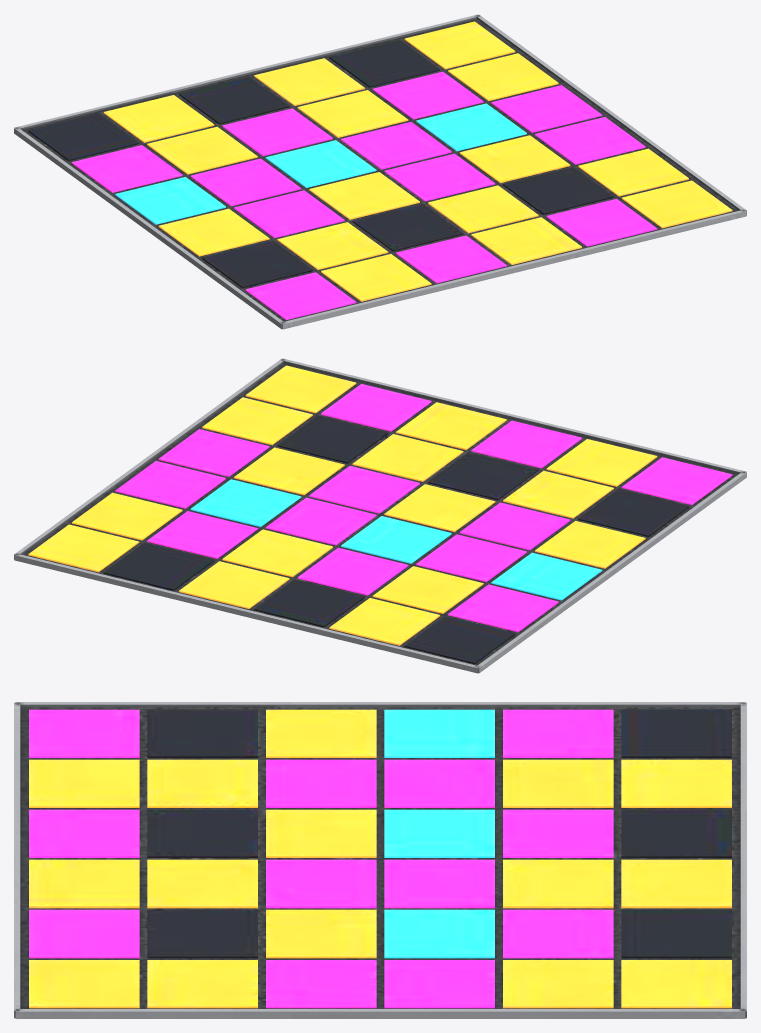
Rendered from pista_led.glb.
The picture shows the model from 3 angles, top to bottom: view 1: azimuth 30°, elevation 25°; view 2: azimuth 150°, elevation 25°; view 3: azimuth 270°, elevation 25°; orthographic projection. The views are drawn at different scales.
Parts seen in each view (by area): view 1: pista_led; view 2: pista_led; view 3: pista_led.
Boxes of the visible parts, x1,y1,x2,y2 form: pista_led: (14,14,746,329); pista_led: (14,358,746,673); pista_led: (14,702,746,1018).
Bounding box in the file's own units: 4.64 × 0.05 × 4.64.
Materials: 1 (1 with a texture image).
